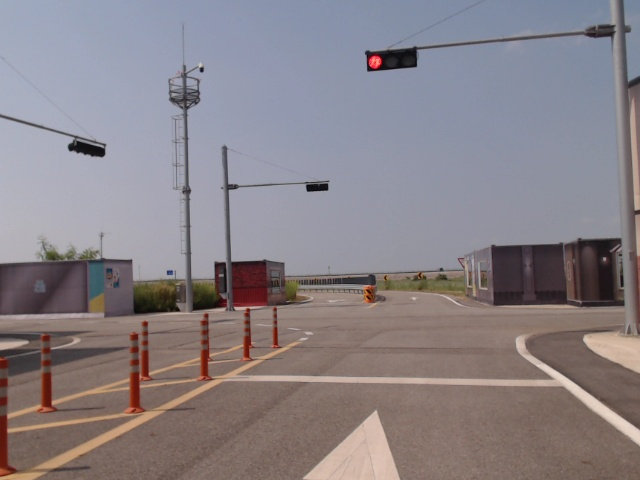red_3: (367, 47, 417, 71)
